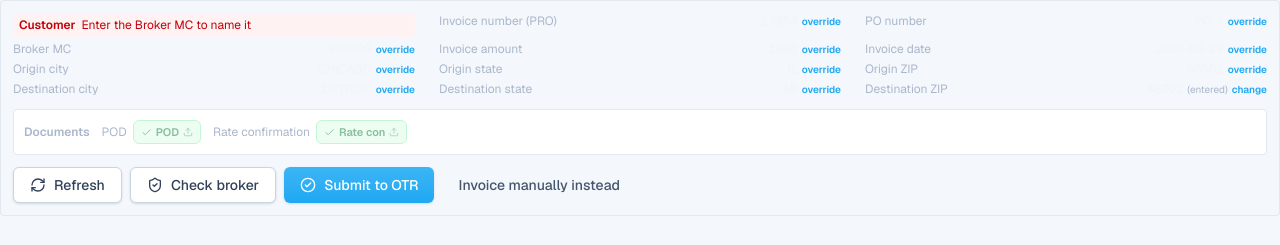
Test: OtrPanel › pre-fills a value someone already typed so it can be corrected
This screenshot has width=1280, height=245.
Expected: the text "(entered)" is shown, [1187, 83, 1228, 96]
Click the button with aria-label "Change Destination ZIP for PRO 13364" at (1249, 90), box [1232, 83, 1267, 96]
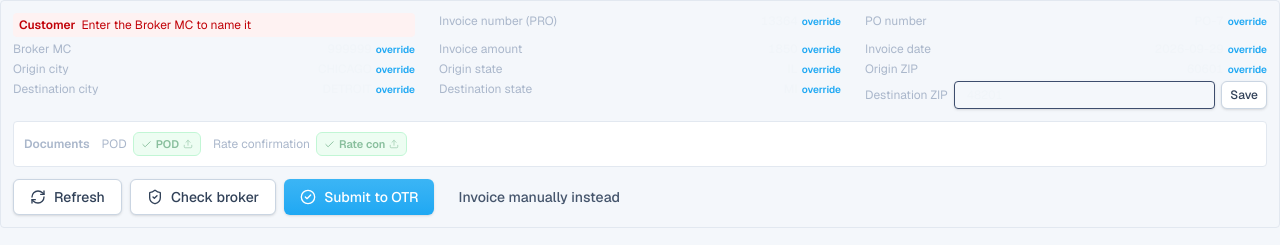
Now the field named "Destination ZIP for PRO 13364" holds "48201", box [954, 81, 1215, 109]
